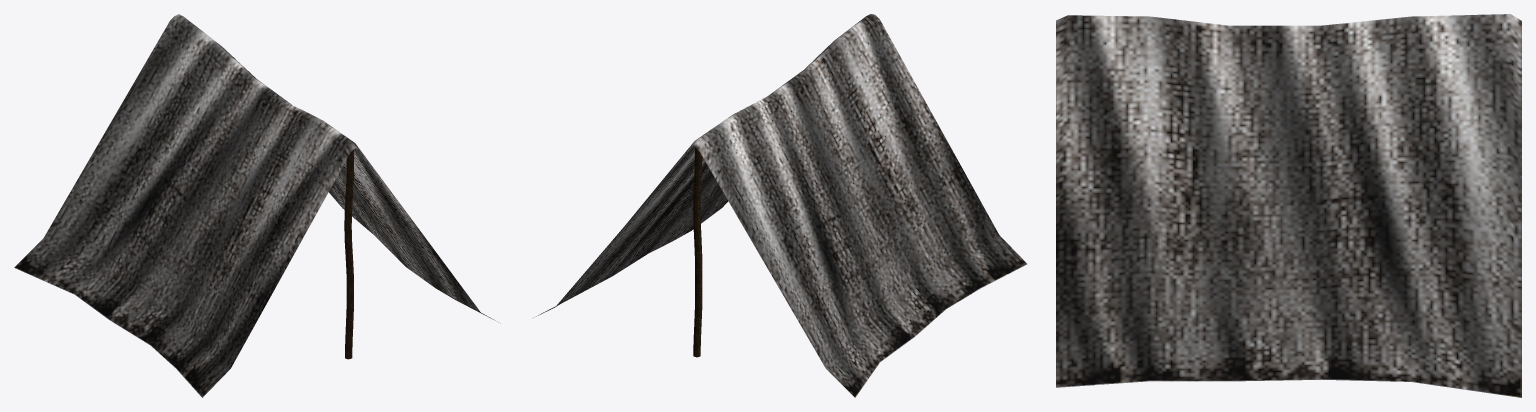
Rendered from Tent.fbx.
3 views of the same model, side by side, from view 1: azimuth 30°, elevation 25°; view 2: azimuth 150°, elevation 25°; view 3: azimuth 270°, elevation 25° (orthographic). The views are drawn at different scales.
Visible parts, largest first — view 1: Tent; view 2: Tent; view 3: Tent.
Part boxes in pixels (x1=…): Tent: x1=14, y1=14, x2=500, y2=397; Tent: x1=532, y1=14, x2=1027, y2=397; Tent: x1=1056, y1=14, x2=1521, y2=397.
Size of the model in its own units: 3.28 by 2.1 by 3.16.
